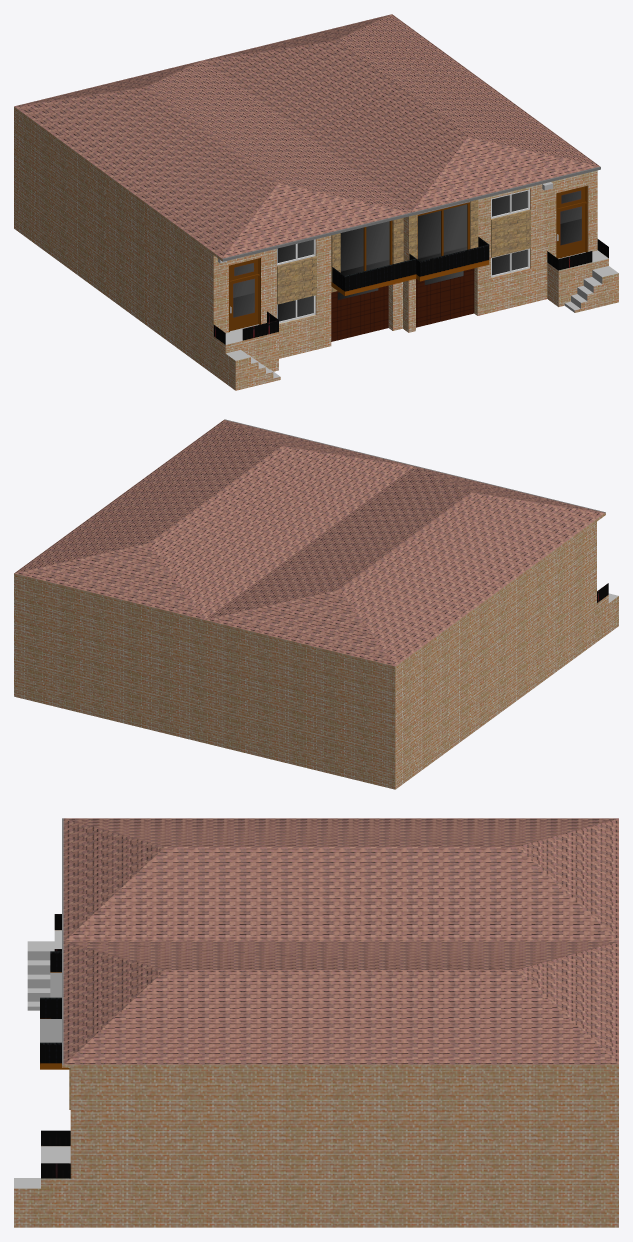
The model's file is Residential House 05.fbx.
The picture shows the model from 3 angles, top to bottom: view 1: azimuth 30°, elevation 25°; view 2: azimuth 150°, elevation 25°; view 3: azimuth 270°, elevation 25°; orthographic projection. The views are drawn at different scales.
Visible parts, largest first — view 1: Residential House 05; view 2: Residential House 05; view 3: Residential House 05.
Boxes of the visible parts, x1,y1,x2,y2 form: Residential House 05: (14,14,618,390); Residential House 05: (14,419,618,789); Residential House 05: (14,818,618,1227).
Bounding box in the file's own units: 1704 × 633 × 1770.
Materials: 1 (1 with a texture image).
